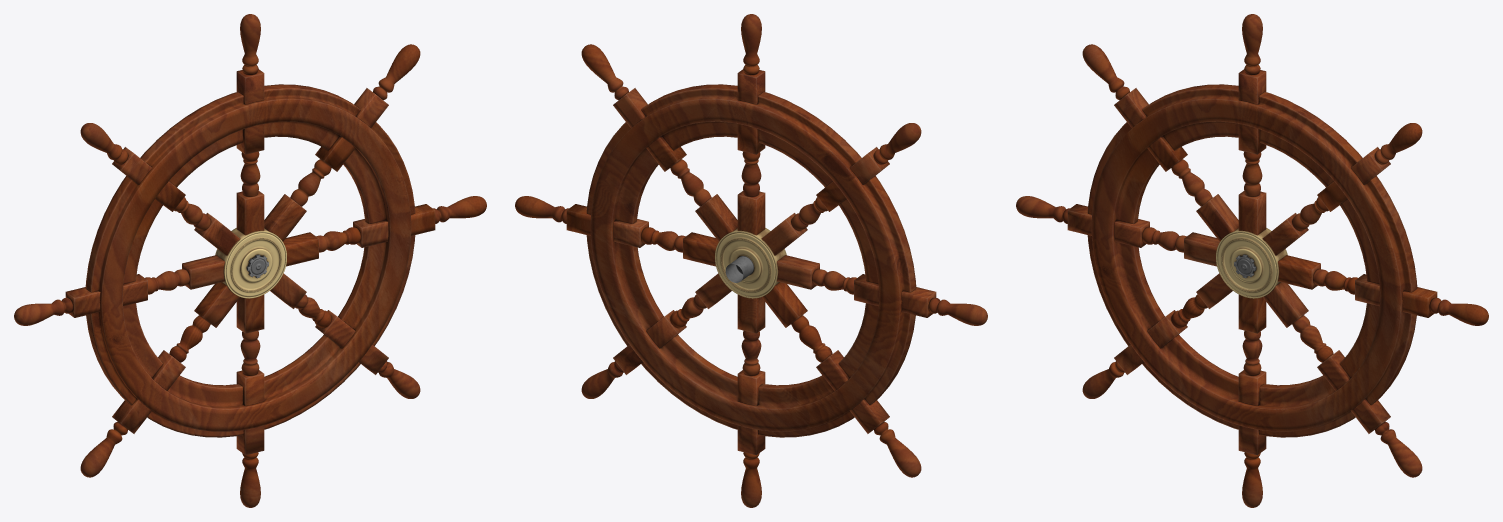
File: ship_steering_wheel.glb
3 renders of one model, left to right at view 1: azimuth 30°, elevation 25°; view 2: azimuth 150°, elevation 25°; view 3: azimuth 330°, elevation 25°, orthographic.
Visible parts, largest first — view 1: Wheel; view 2: Wheel; view 3: Wheel.
Boxes of the visible parts, <box> form: Wheel: <box>14,14,486,507</box>; Wheel: <box>515,14,987,507</box>; Wheel: <box>1016,14,1488,507</box>.
Bounding box in the file's own units: 1.73 × 1.73 × 0.1616.
1 material, 1 textured.
